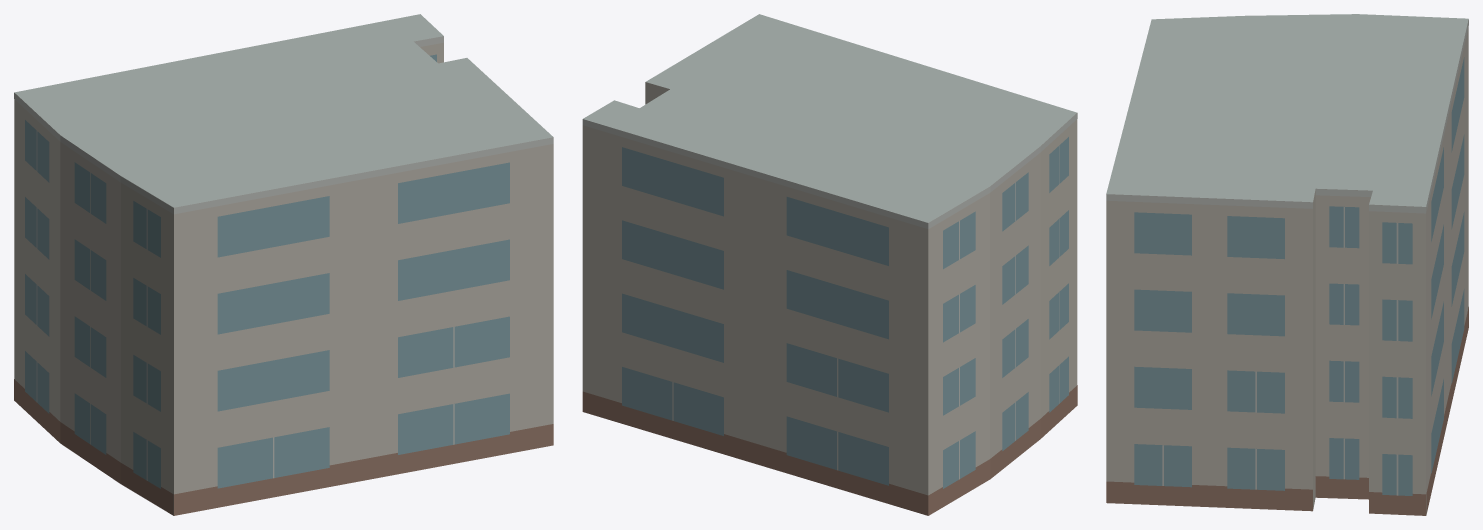
File: survey-upis-32749621.glb
3 renders of one model, left to right at view 1: azimuth 30°, elevation 25°; view 2: azimuth 150°, elevation 25°; view 3: azimuth 270°, elevation 25°, orthographic. The views are drawn at different scales.
Parts seen in each view (by area): view 1: survey-upis-32749621.tmp; view 2: survey-upis-32749621.tmp; view 3: survey-upis-32749621.tmp.
Boxes of the visible parts, <box> form: survey-upis-32749621.tmp: <box>14,14,553,515</box>; survey-upis-32749621.tmp: <box>582,14,1077,515</box>; survey-upis-32749621.tmp: <box>1106,14,1468,515</box>.
Bounding box in the file's own units: 15.28 × 11.4 × 12.14.
